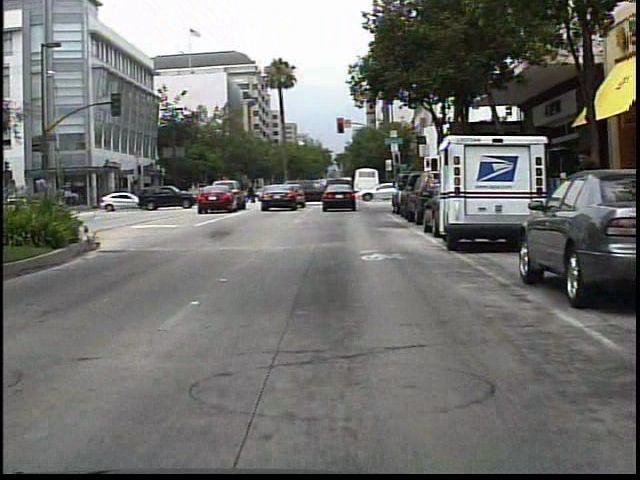person: (569, 145, 607, 262), (248, 179, 259, 205)
